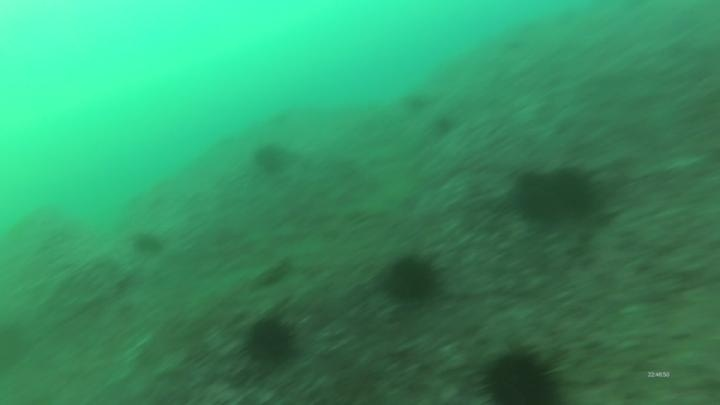echinus: (513, 162, 602, 227), (475, 342, 566, 405), (381, 250, 444, 306), (241, 312, 300, 368), (251, 140, 292, 177), (130, 228, 166, 258), (401, 87, 433, 115), (430, 111, 458, 139)
